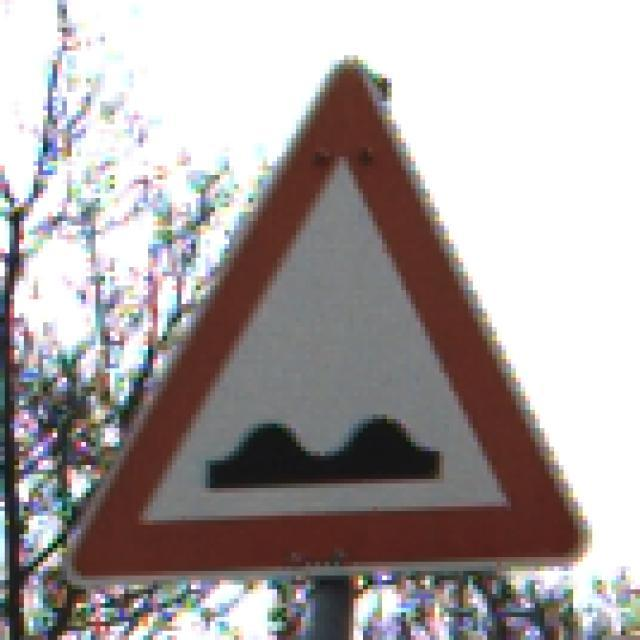hump or rough road: (56, 53, 598, 591)
